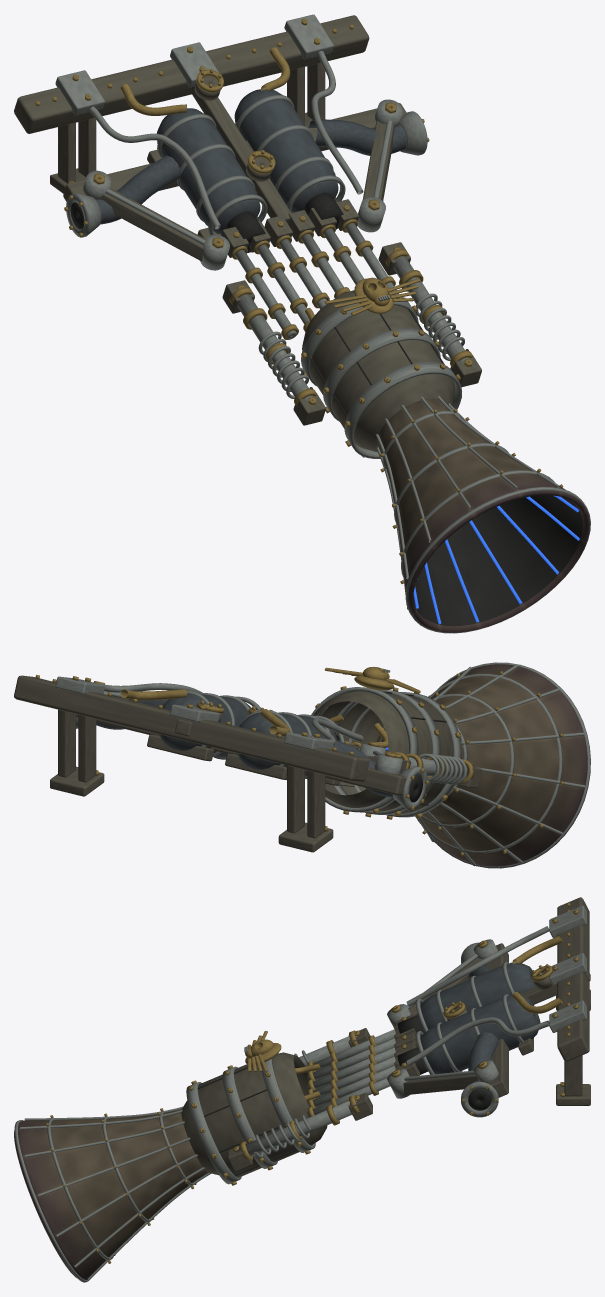
File: thetazine-thruster-v01.glb
The picture shows the model from 3 angles, top to bottom: view 1: azimuth 30°, elevation 25°; view 2: azimuth 150°, elevation 25°; view 3: azimuth 270°, elevation 25°; orthographic projection. The views are drawn at different scales.
Visible parts, largest first — view 1: Continuous hollow bell, Upper mounting beam, Main pressure chamber, Paired canister 1, Paired canister -1, Central regulator spine, Pressure chamber retaining band.002, Diagonal shoulder -1, fuel 5x5 routed neck, oxidizer 5x5 routed neck, Pressure chamber retaining band.001, Lower mounting crossmember (+19 smaller); view 2: Continuous hollow bell, Upper mounting beam, Main pressure chamber, Paired canister 1, Pressure chamber retaining band, Lower mounting crossmember, Paired canister -1, Nozzle external transverse seam.003, Nozzle external transverse seam.002, Pressure chamber retaining band.002, Supported saddle cheek.002, Supported saddle cheek (+27 smaller); view 3: Continuous hollow bell, Main pressure chamber, Paired canister 1, Upper mounting beam, Paired canister -1, Pressure chamber retaining band.002, Outer actuator body 1, Pressure chamber retaining band.001, Lower mounting crossmember, Outer pressure return 1, Diagonal shoulder 1, Outer pressure return -1 (+23 smaller).
Part boxes in pixels (x1,y1,x2,y2): Continuous hollow bell: [377, 398, 589, 632]; Upper mounting beam: [14, 15, 369, 133]; Main pressure chamber: [302, 290, 454, 452]; Paired canister 1: [234, 89, 338, 212]; Paired canister -1: [157, 108, 260, 234]; Central regulator spine: [191, 86, 291, 224]; Pressure chamber retaining band.002: [344, 362, 461, 458]; Diagonal shoulder -1: [100, 188, 205, 261]; fuel 5x5 routed neck: [95, 155, 180, 224]; oxidizer 5x5 routed neck: [308, 119, 406, 155]; Pressure chamber retaining band.001: [323, 328, 440, 421]; Lower mounting crossmember: [63, 103, 406, 201]; Continuous hollow bell: [376, 664, 587, 866]; Upper mounting beam: [14, 675, 369, 781]; Main pressure chamber: [313, 691, 453, 813]; Paired canister 1: [159, 693, 251, 757]; Pressure chamber retaining band: [311, 687, 418, 812]; Lower mounting crossmember: [76, 714, 406, 795]; Paired canister -1: [237, 712, 337, 776]; Nozzle external transverse seam.003: [422, 662, 590, 868]; Nozzle external transverse seam.002: [415, 673, 562, 853]; Pressure chamber retaining band.002: [348, 692, 461, 817]; Supported saddle cheek.002: [78, 714, 96, 782]; Supported saddle cheek: [307, 770, 325, 838]; Continuous hollow bell: [14, 1109, 207, 1279]; Main pressure chamber: [181, 1052, 327, 1177]; Paired canister 1: [418, 995, 540, 1073]; Upper mounting beam: [557, 897, 589, 1061]; Paired canister -1: [418, 962, 536, 1032]; Pressure chamber retaining band.002: [186, 1082, 241, 1184]; Outer actuator body 1: [236, 1100, 356, 1157]; Pressure chamber retaining band.001: [222, 1066, 277, 1168]; Lower mounting crossmember: [485, 943, 508, 1099]; Outer pressure return 1: [406, 1017, 549, 1065]; Diagonal shoulder 1: [403, 1074, 478, 1094]; Outer pressure return -1: [406, 926, 549, 1006].
Bounding box in the file's own units: 5.07 × 5.25 × 8.68.
Materials: 7 (7 with a texture image).
